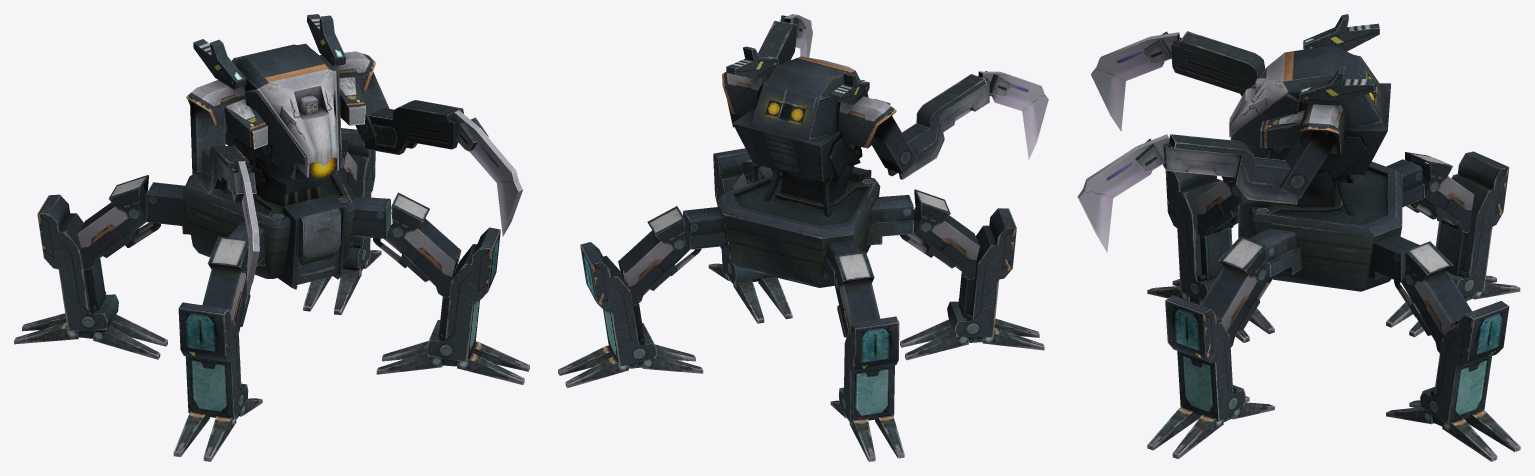
3 renders of one model, left to right at view 1: azimuth 30°, elevation 25°; view 2: azimuth 150°, elevation 25°; view 3: azimuth 270°, elevation 25°, orthographic. The views are drawn at different scales.
Visible parts, largest first — view 1: 20_10; view 2: 20_10; view 3: 20_10.
Part boxes in pixels (<box>): 20_10: <box>14,14,529,461</box>; 20_10: <box>558,14,1048,461</box>; 20_10: <box>1077,14,1520,461</box>.
Bounding box in the file's own units: 301 × 254 × 309.
